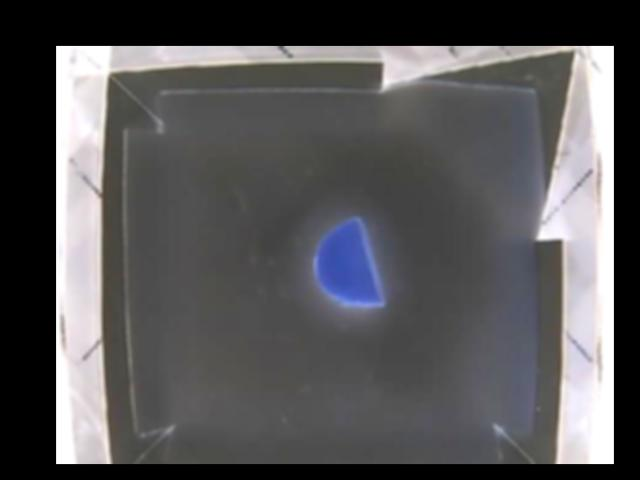Potato: (312, 217, 388, 304)
